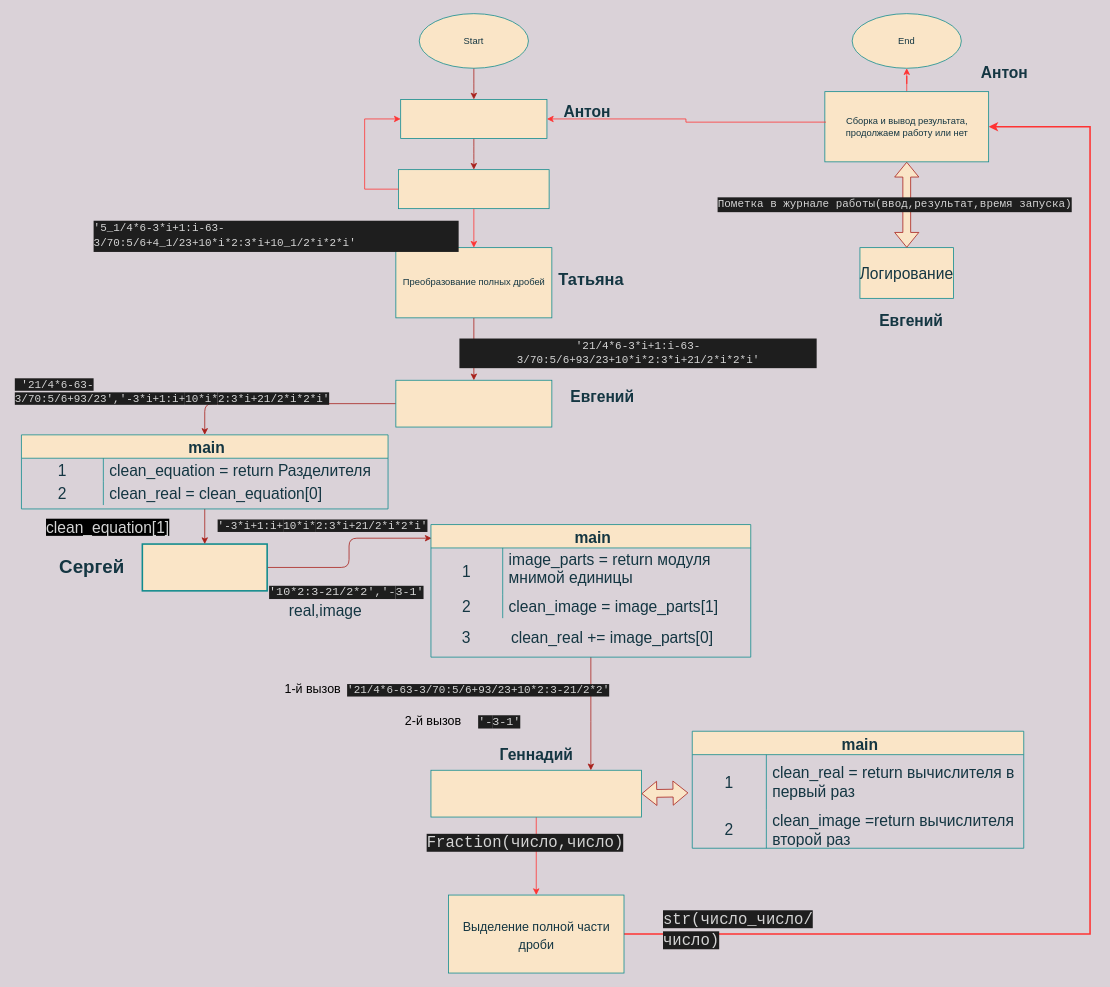
The diagram is 1110 pixels wide and 987 high, and some of its shapes have lost their labels. The centre of each missing label's shape, as x and y in pixels:
Вычислитель: point 536,793
Инструкция, ввод пользователя (main): point 473,118
Проверка валидности данных, удаление пробелов: point 473,189
Разделитель мнимой и вещественной части выражения: point 473,403
Убирает мнимые единицы,учитывает степень: point 204,567
